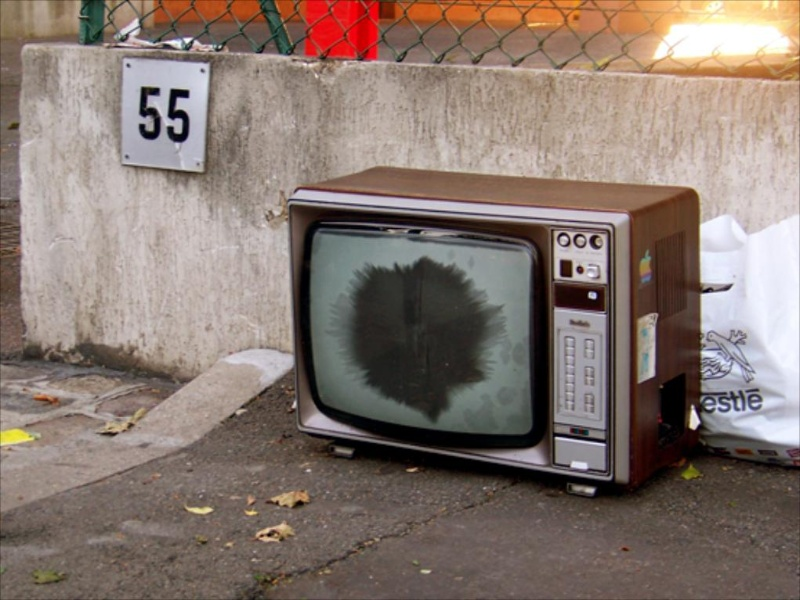tv: (274, 146, 705, 501)
